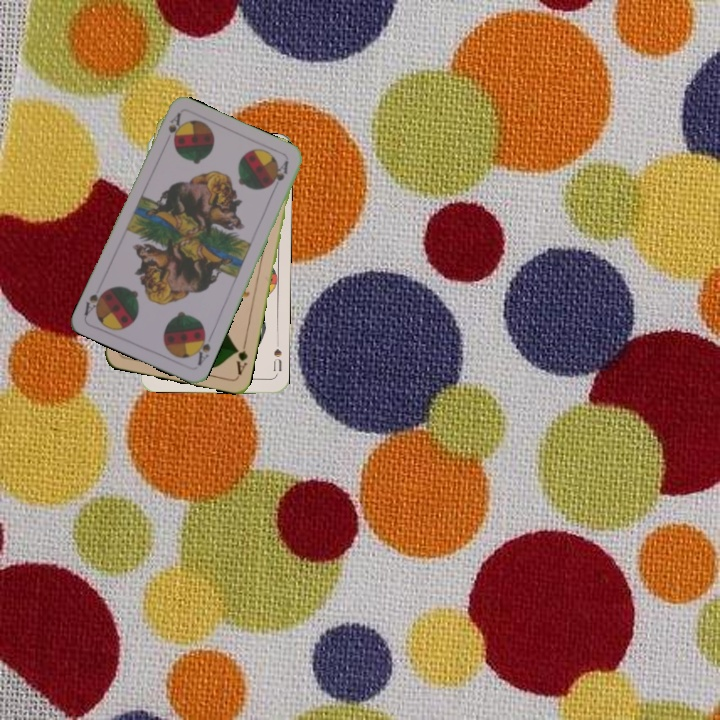GA: (231, 338, 250, 378)
SA: (191, 328, 213, 368), (164, 109, 183, 143)
SU: (269, 337, 284, 377)
